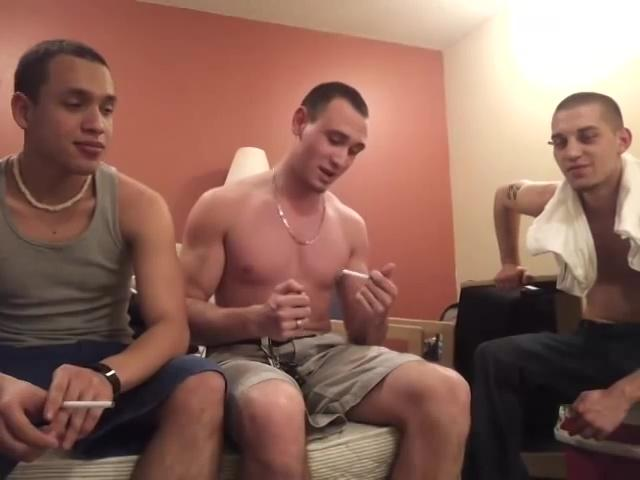cigarette: (57, 396, 117, 413), (342, 268, 378, 280)
